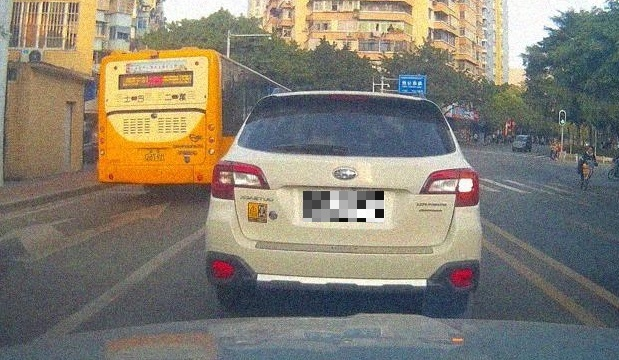L_light: (210, 160, 271, 200)
R_light: (418, 167, 481, 206)
T_light: (329, 93, 368, 100)
day-right: (203, 90, 483, 313)
plate_1: (303, 191, 384, 222)
